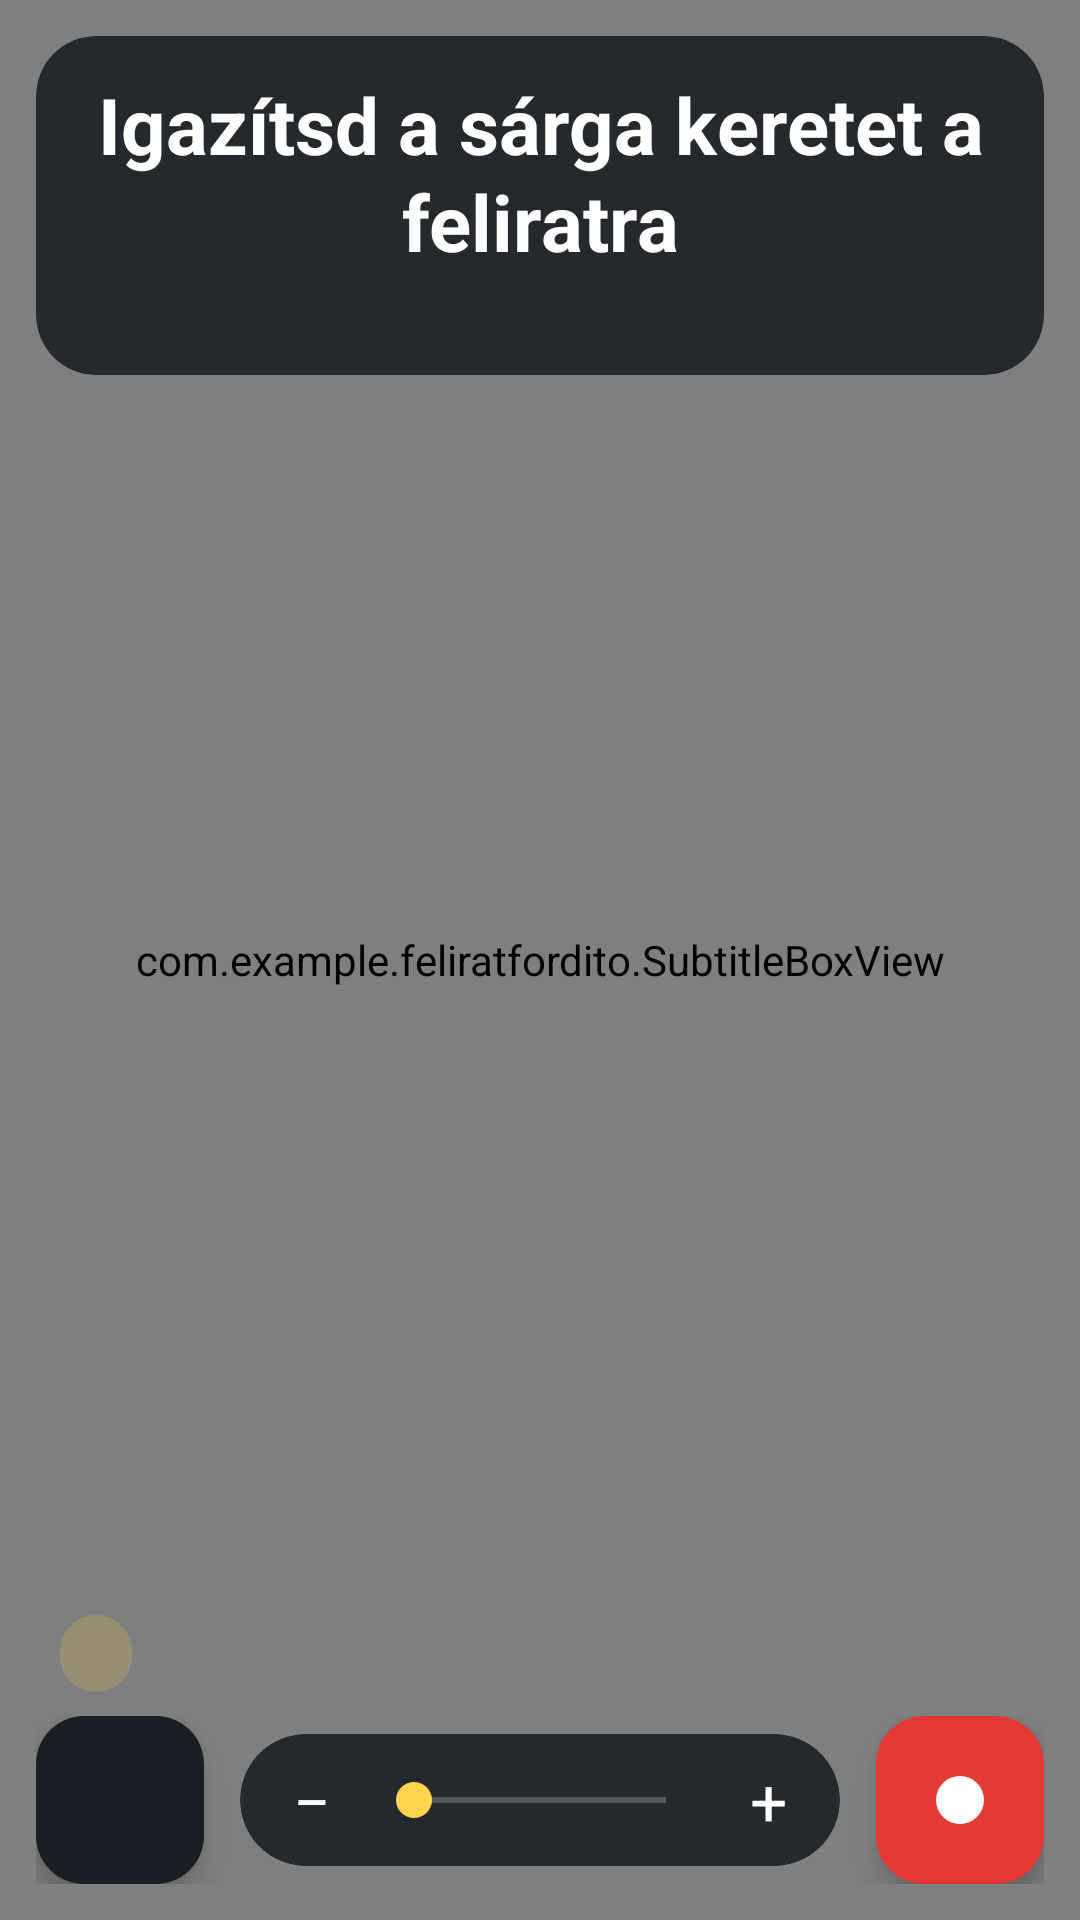

Named icons in this screenshot (1080x1920) and their bounding boxes, (x1, y1, x2, y2):
Felvétel: (876, 1716, 1044, 1884)
